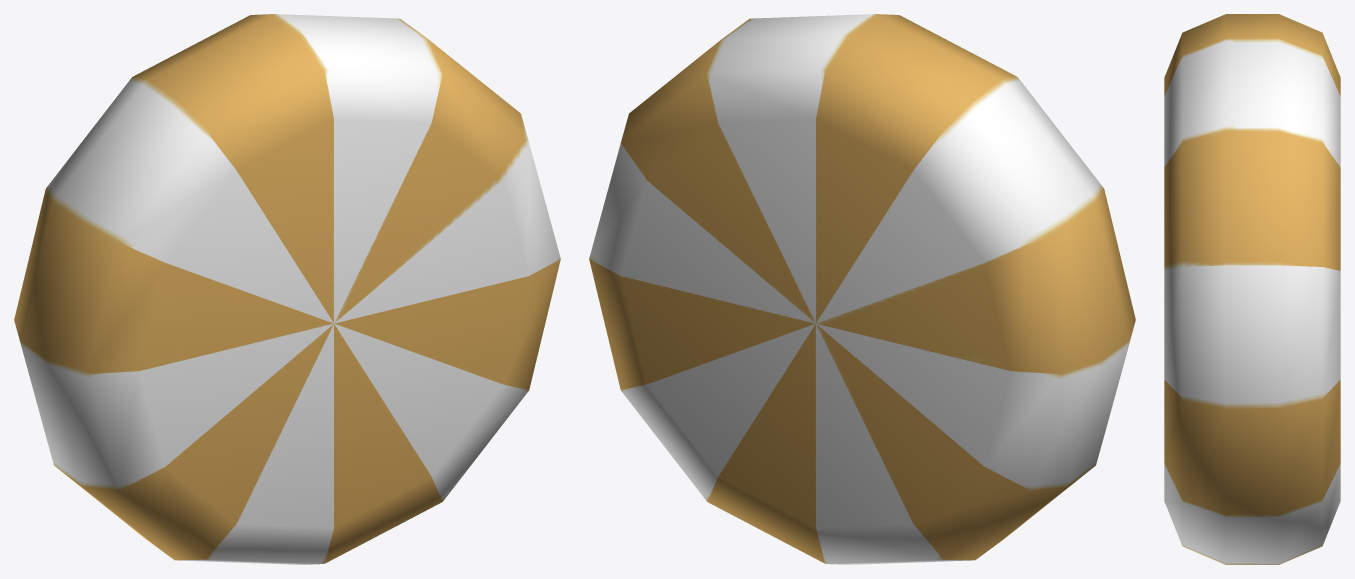
The model's file is Candy_2.fbx.
3 renders of one model, left to right at view 1: azimuth 30°, elevation 25°; view 2: azimuth 150°, elevation 25°; view 3: azimuth 270°, elevation 25°, orthographic. The views are drawn at different scales.
Visible parts, largest first — view 1: Candy_2; view 2: Candy_2; view 3: Candy_2.
Boxes of the visible parts, bbox=[...] form: Candy_2: bbox=[14, 14, 560, 564]; Candy_2: bbox=[589, 14, 1135, 564]; Candy_2: bbox=[1164, 14, 1340, 564].
Size of the model in its own units: 1.28 by 1.28 by 0.4073.
